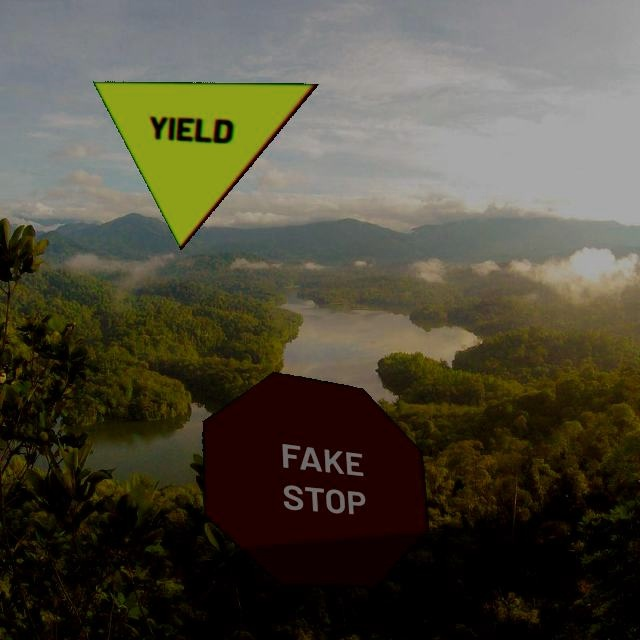FAKE_STOP: (202, 371, 429, 588)
YIELD: (92, 81, 319, 250)
